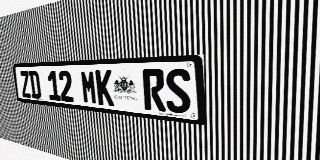1: (46, 71, 61, 101)
2: (58, 70, 74, 102)
D: (28, 71, 42, 99)
K: (95, 70, 114, 107)
M: (80, 70, 98, 105)
R: (142, 69, 166, 112)
S: (165, 69, 191, 114)
Z: (19, 71, 32, 98)
